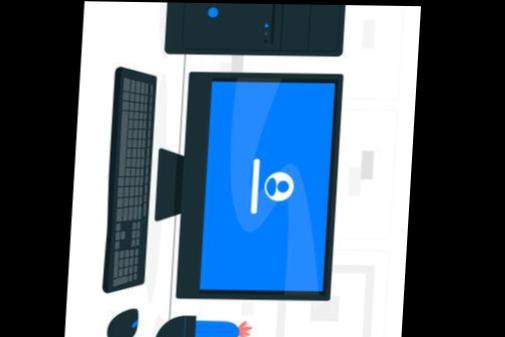keyboard: (97, 60, 160, 302)
monitor: (149, 72, 344, 303)
mouse: (105, 304, 145, 337)
pc: (154, 2, 351, 62)
